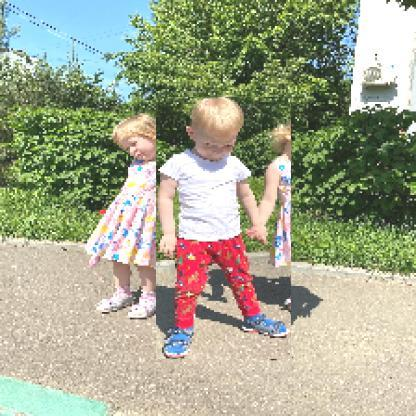child: (157, 98, 293, 361), (87, 114, 204, 320)
